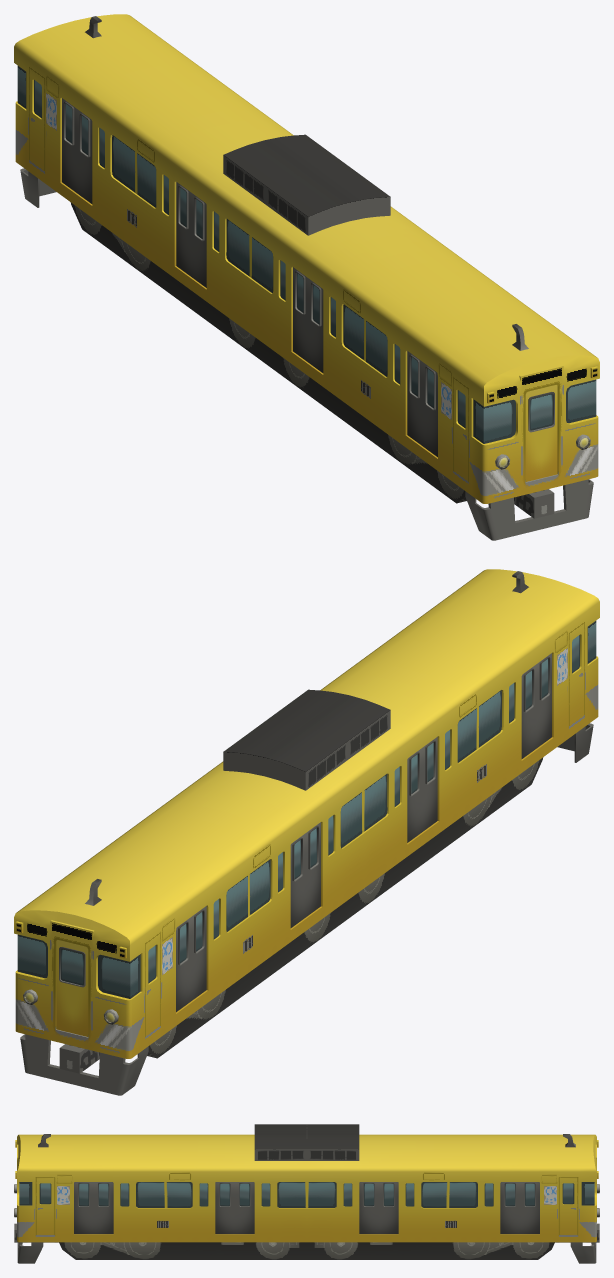
Rendered from train.glb.
3 renders of one model, top to bottom at view 1: azimuth 30°, elevation 25°; view 2: azimuth 150°, elevation 25°; view 3: azimuth 270°, elevation 25°, orthographic. The views are drawn at different scales.
Parts seen in each view (by area): view 1: Train; view 2: Train; view 3: Train.
Boxes of the visible parts, x1,y1,x2,y2 form: Train: [14, 14, 599, 540]; Train: [14, 569, 599, 1095]; Train: [14, 1124, 599, 1263].
Bounding box in the file's own units: 2.88 × 4.42 × 20.41.
Materials: 1 (1 with a texture image).
